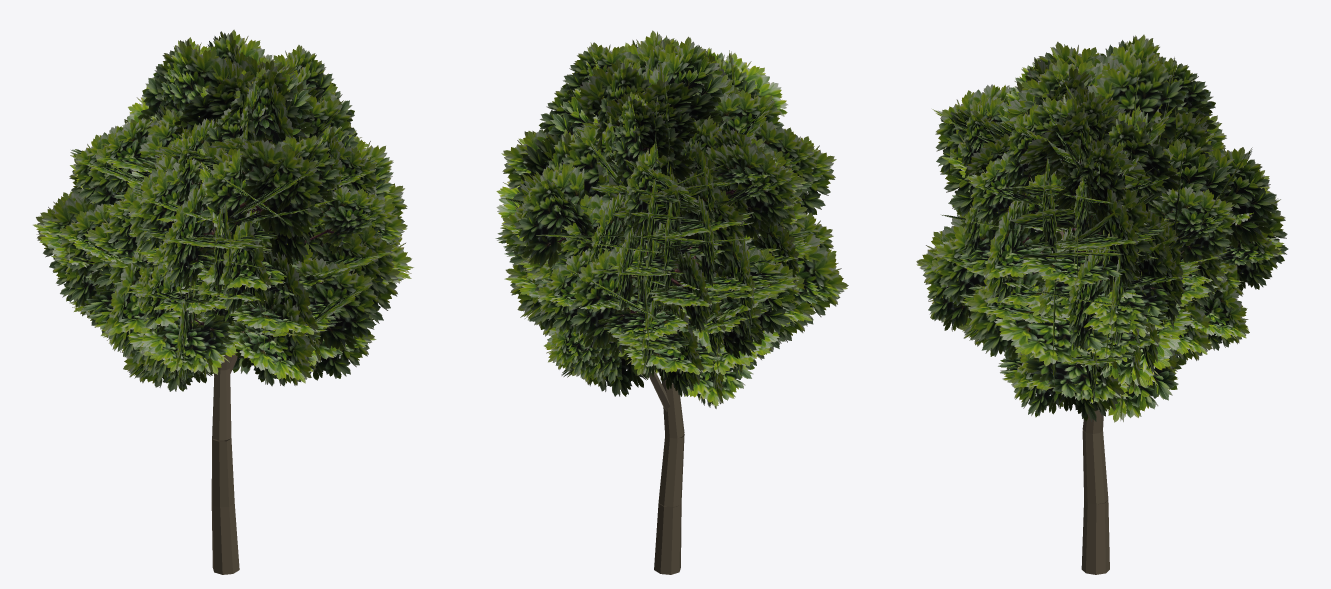
File: category_mesh_tree_3.glb
The picture shows the model from 3 angles, left to right: view 1: azimuth 30°, elevation 25°; view 2: azimuth 150°, elevation 25°; view 3: azimuth 270°, elevation 25°; orthographic projection.
Parts seen in each view (by area): view 1: category_mesh_tree_3; view 2: category_mesh_tree_3; view 3: category_mesh_tree_3.
Part boxes in pixels (x1,y1,x2,y2): category_mesh_tree_3: [33, 29, 413, 574]; category_mesh_tree_3: [495, 30, 848, 574]; category_mesh_tree_3: [916, 34, 1288, 574].
Size of the model in its own units: 13.7 by 19.54 by 13.67.
1 material, 1 textured.
